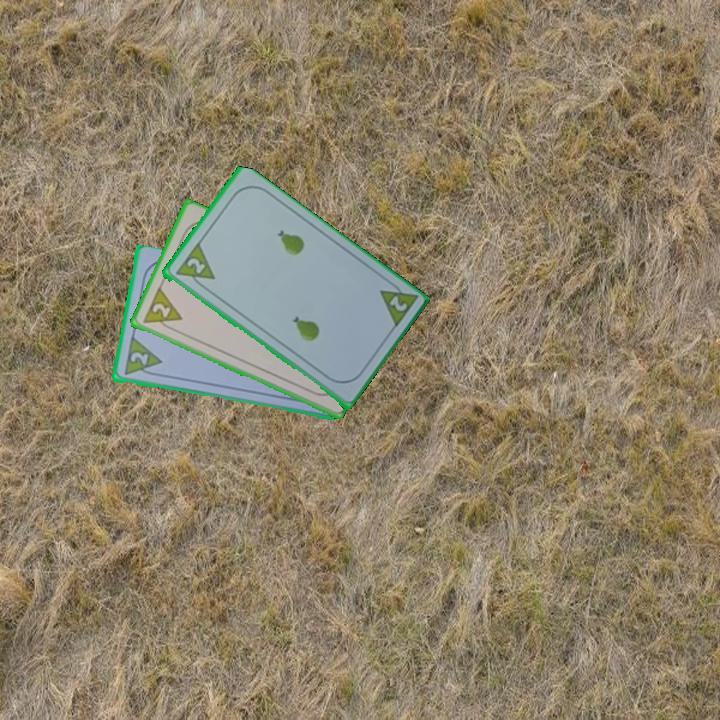2p: (139, 284, 185, 335), (120, 335, 164, 379), (183, 254, 208, 277), (385, 292, 410, 315)
